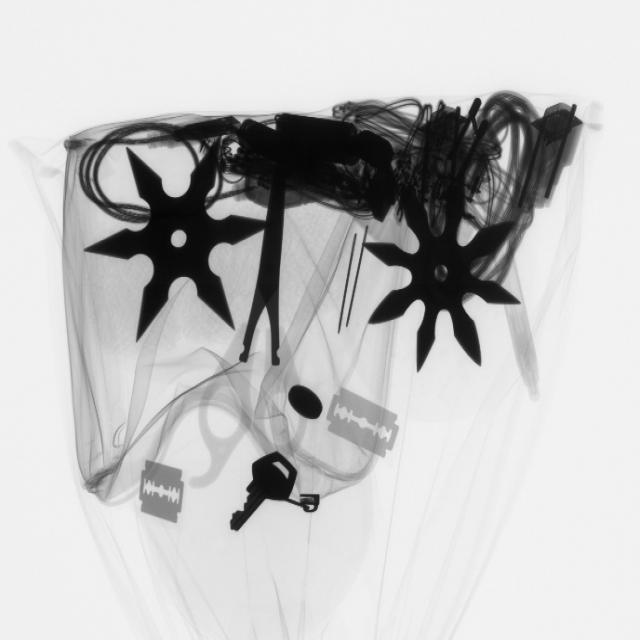BLADE: (323, 382, 404, 465), (132, 453, 192, 530)
SHURIKEN: (92, 140, 260, 347), (360, 174, 518, 377)
